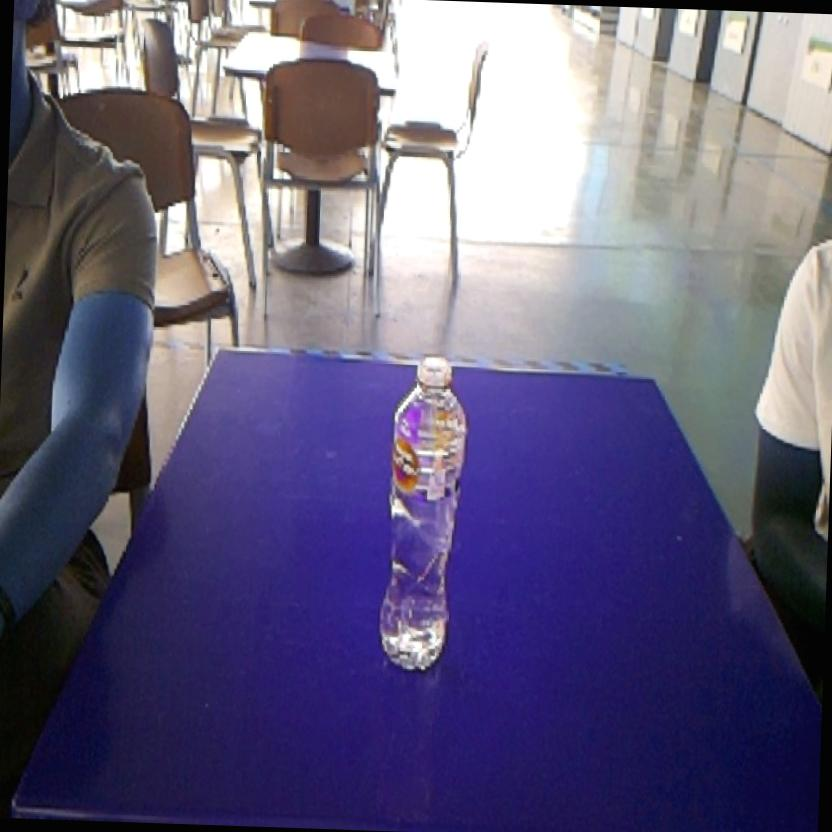no_cap: (371, 340, 477, 686)
